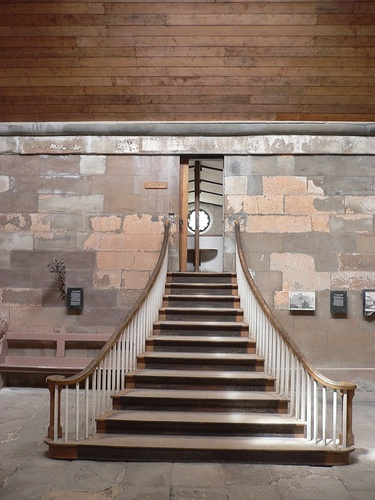stairs_up: (136, 267, 275, 467)
